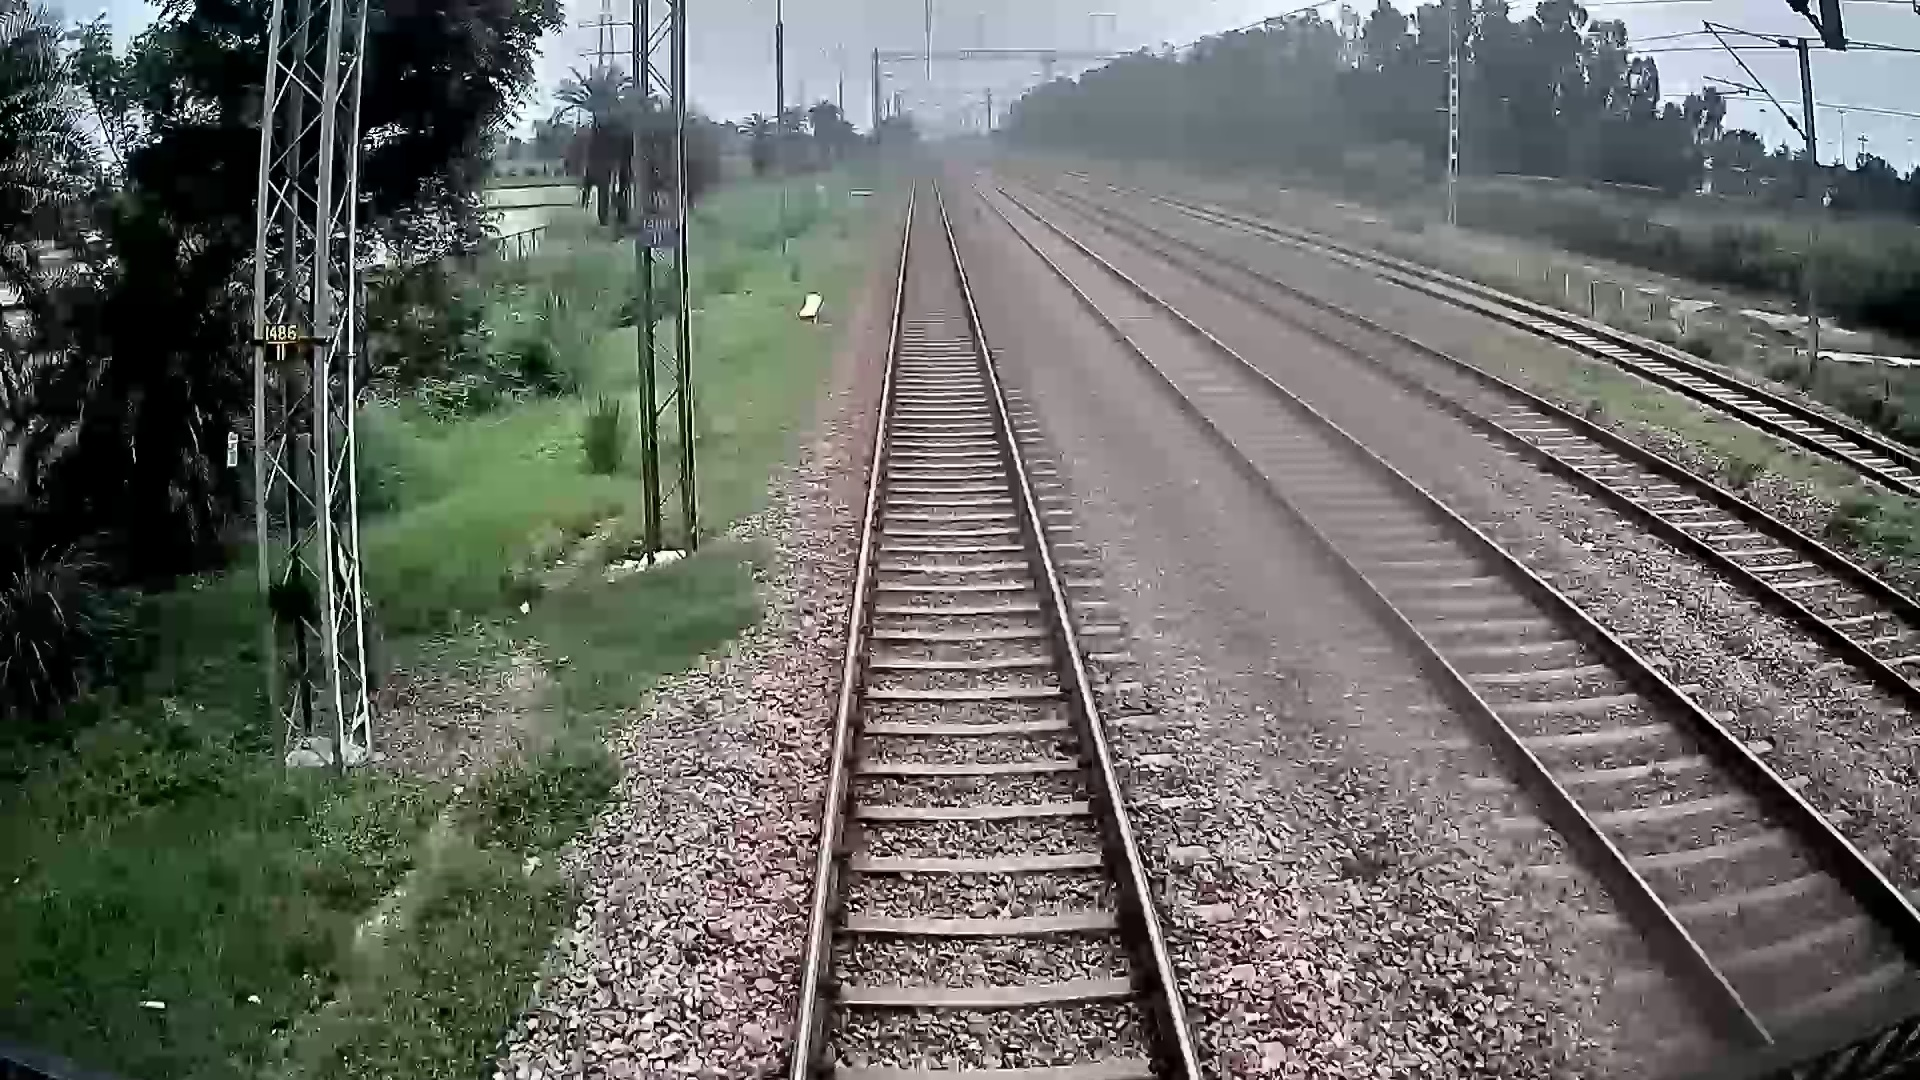track1: (799, 198, 1189, 1064)
track2: (984, 202, 1896, 1004)
track3: (1109, 222, 1913, 665)
track4: (1211, 214, 1912, 488)
